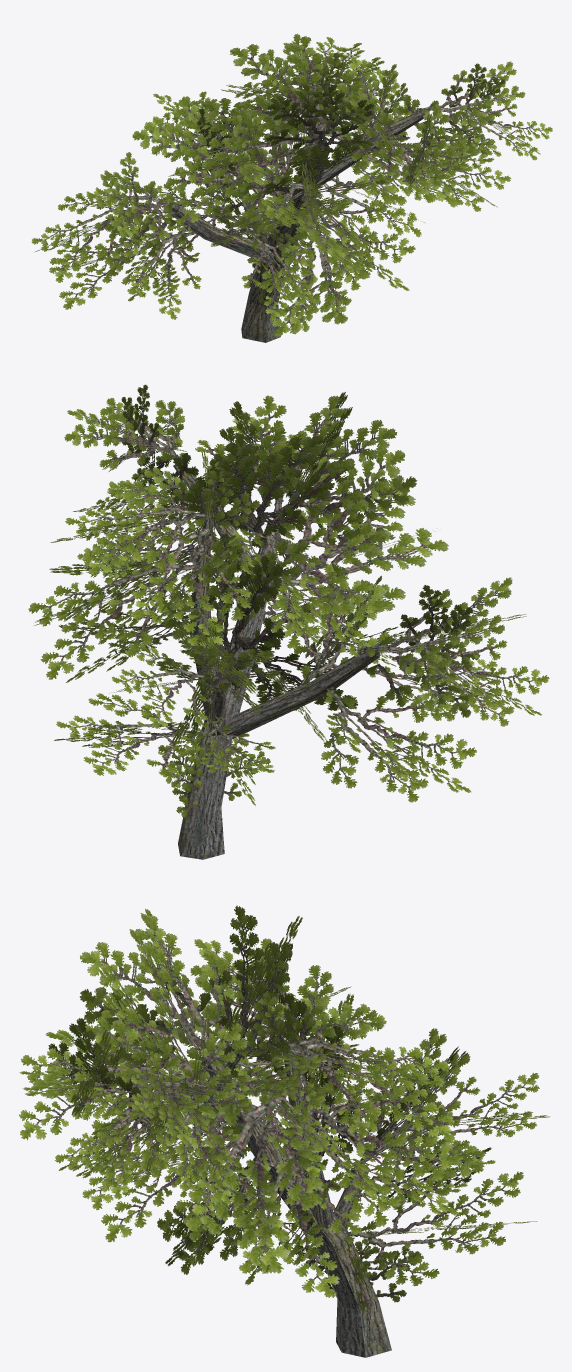
The model's file is oak_v2.glb.
3 renders of one model, top to bottom at view 1: azimuth 30°, elevation 25°; view 2: azimuth 150°, elevation 25°; view 3: azimuth 270°, elevation 25°, orthographic. The views are drawn at different scales.
Parts seen in each view (by area): view 1: oak_tree_b; view 2: oak_tree_b; view 3: oak_tree_b.
Boxes of the visible parts, <box> form: oak_tree_b: <box>31,33,552,342</box>; oak_tree_b: <box>28,384,549,859</box>; oak_tree_b: <box>19,905,549,1357</box>.
Size of the model in its own units: 6.06 by 4.24 by 5.
1 material, 1 textured.
